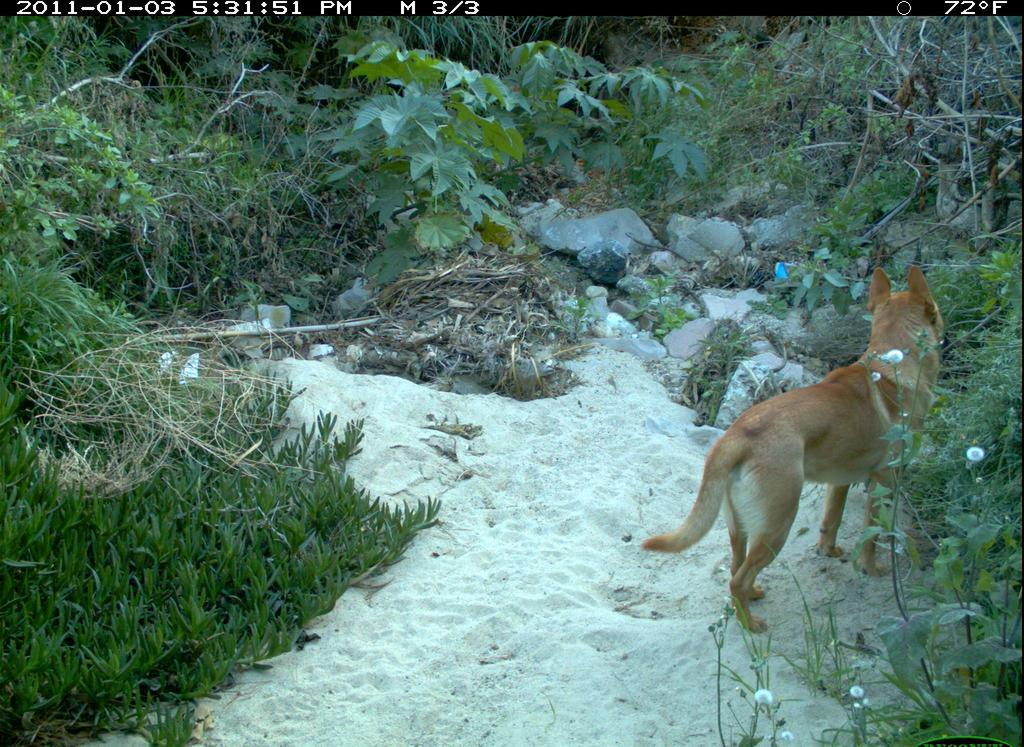dog: (637, 257, 952, 646)
